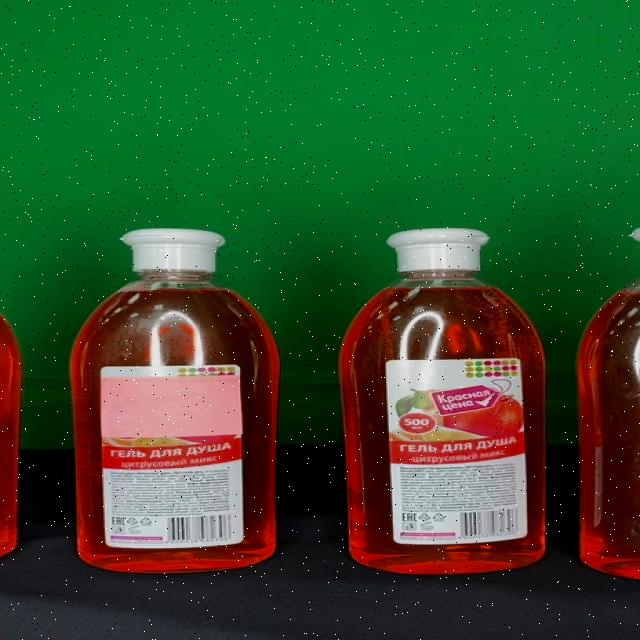Bottle: (70, 228, 282, 575), (339, 227, 547, 577)
Cap: (120, 228, 224, 272), (386, 228, 490, 270)
